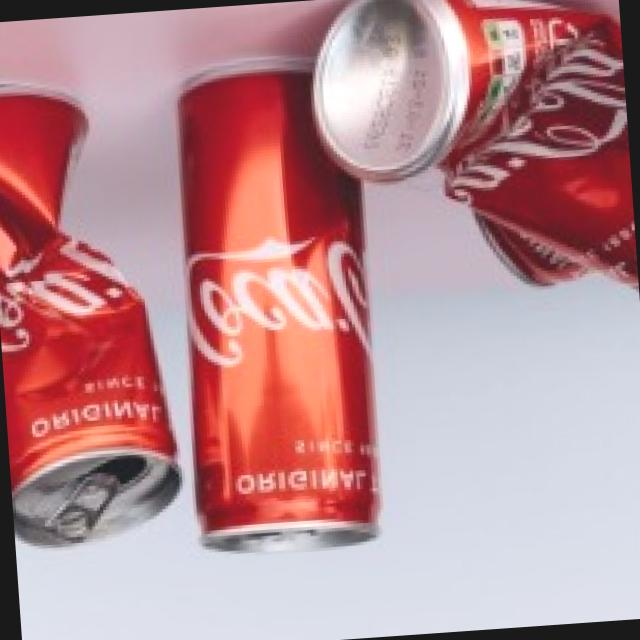kim_loai: (174, 62, 381, 555), (311, 0, 639, 290), (0, 91, 180, 548)
